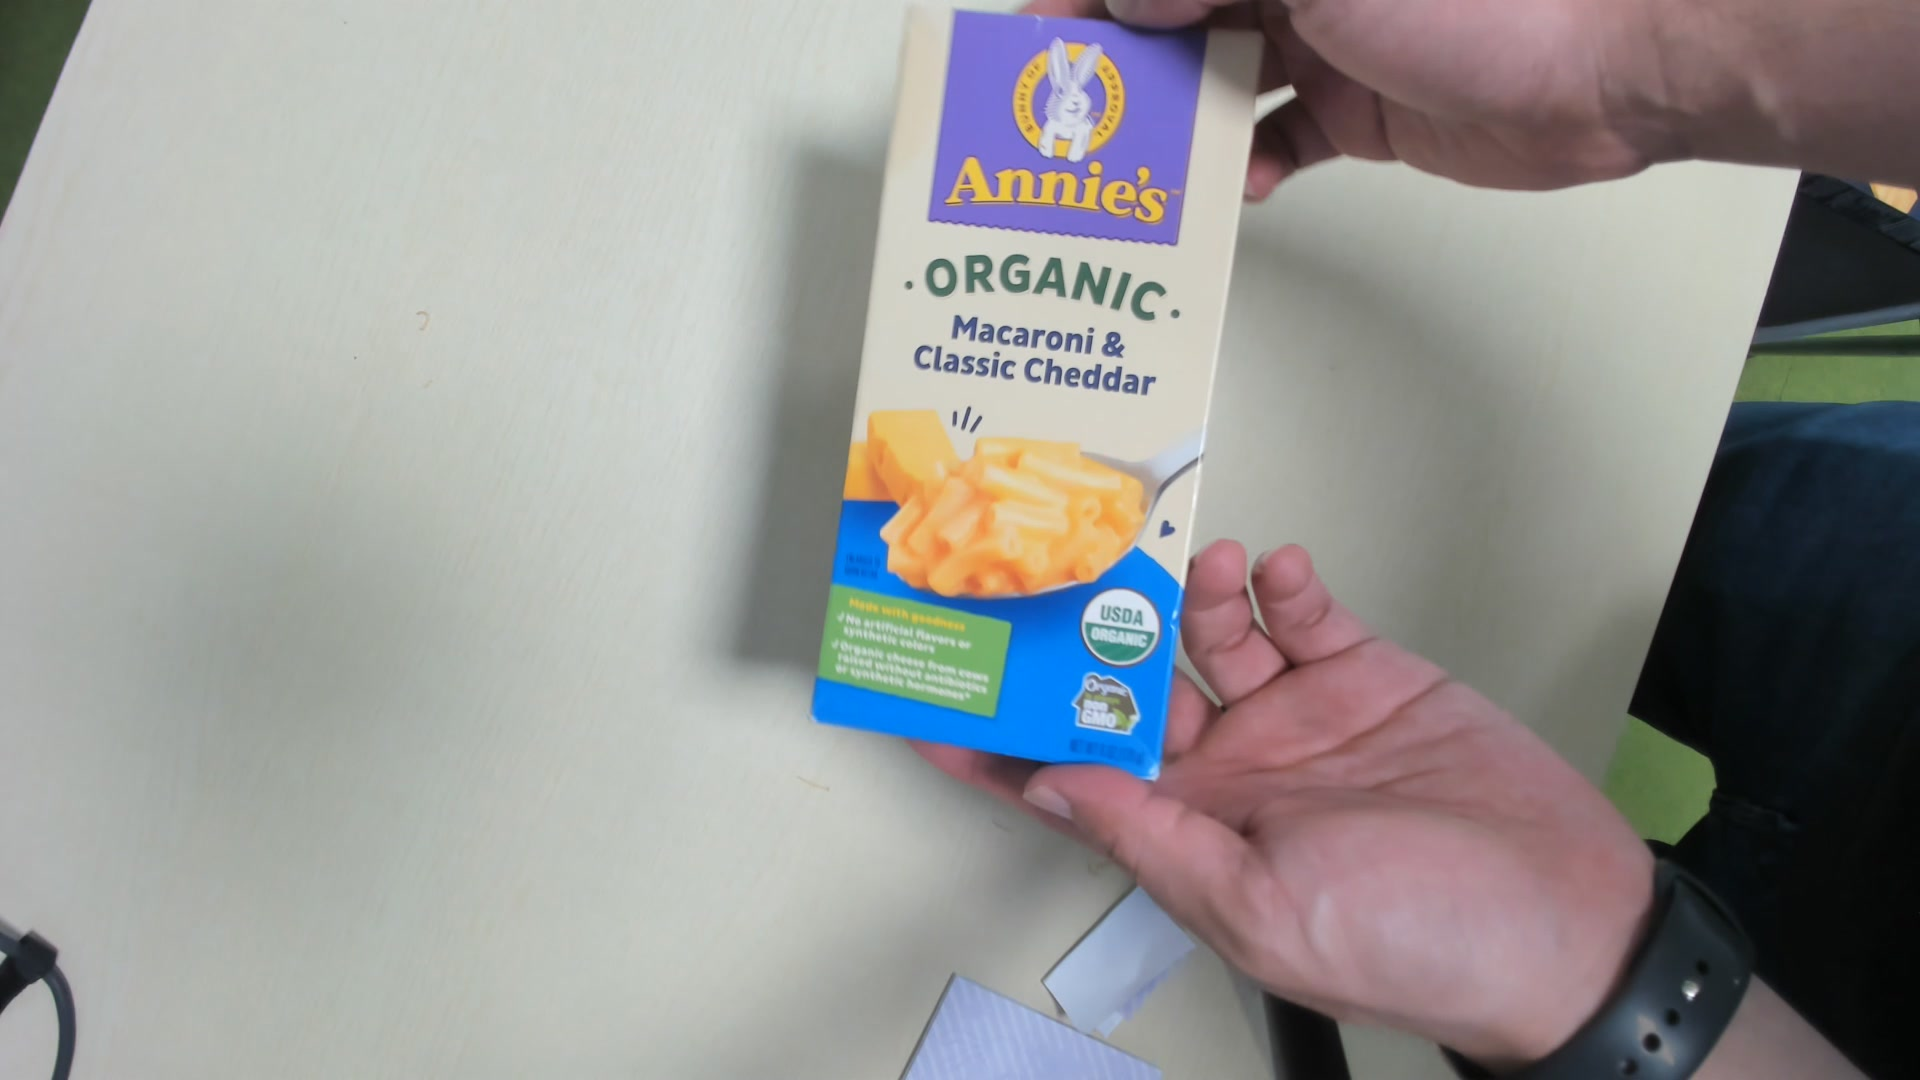InstantMeals_100_199g_NonHalal_NonHealthy: (824, 9, 1273, 775)
